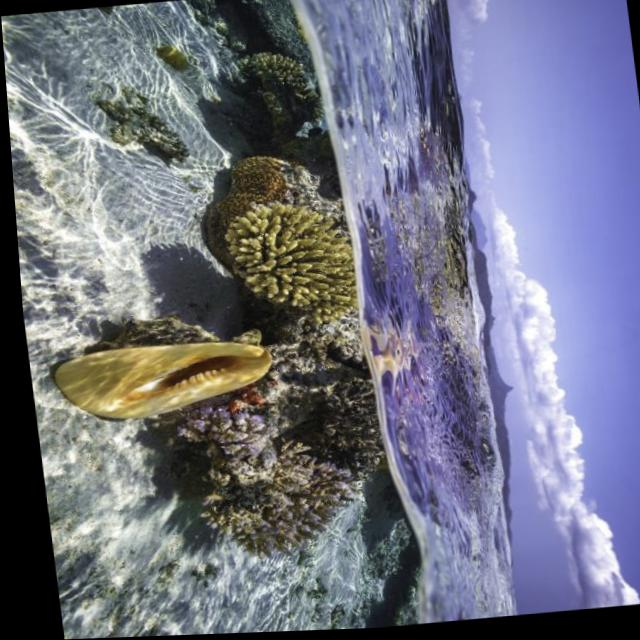Healthy Coral: (136, 442, 354, 569), (210, 194, 352, 325), (154, 410, 280, 489), (228, 38, 315, 128)
